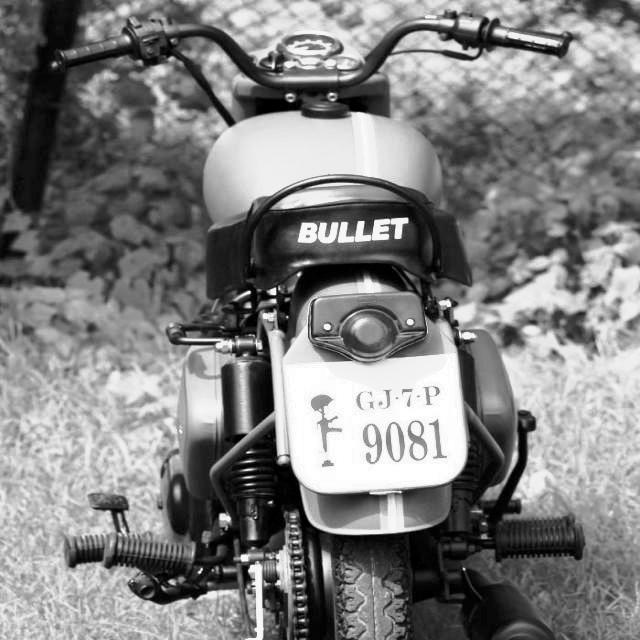Bike: (46, 7, 585, 640)
